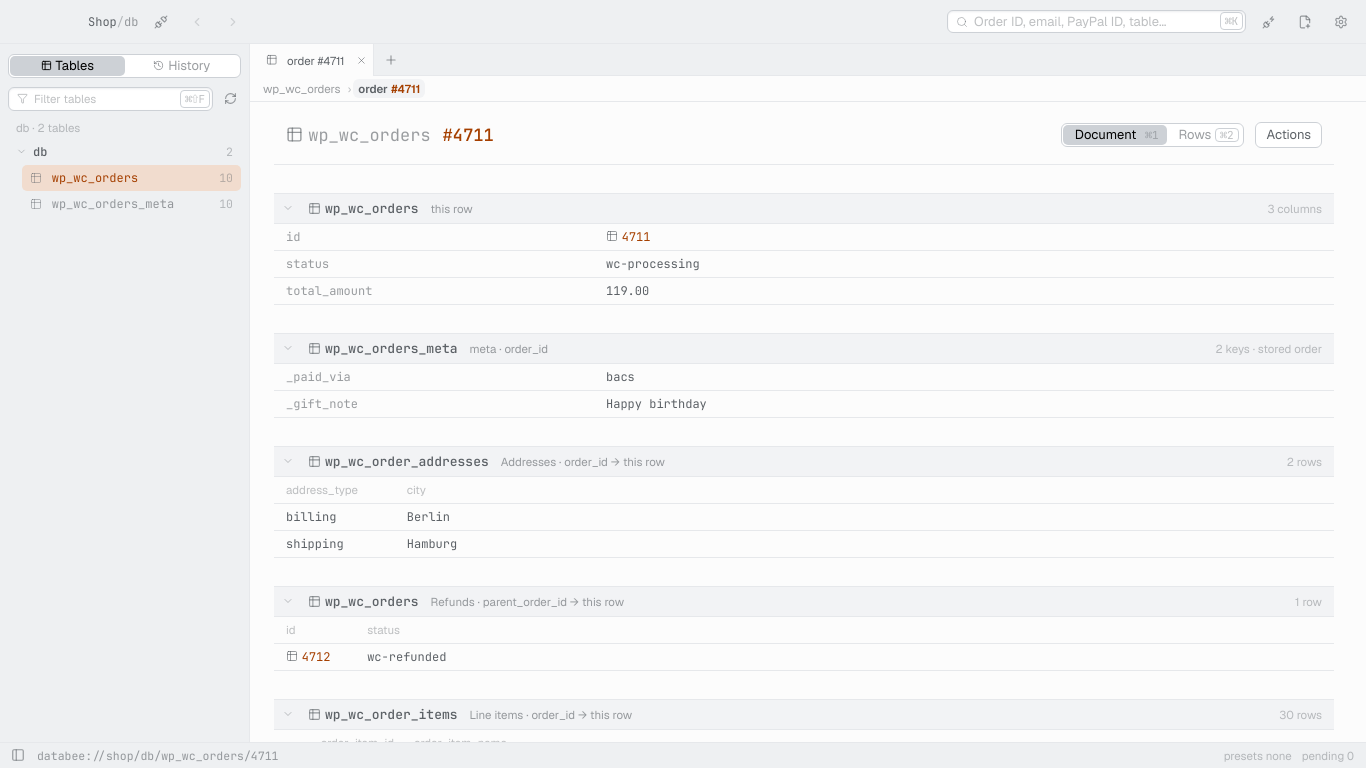
Test: live mode and change marks › w › stops live mode when the status bar chip is clicked
Expected: the element showing "db 2 wp_wc_orders 10 wp_wc_orders_meta 10" is shown, x1=16 y1=144 x2=241 y2=212
Click the text "wc-processing". click: (653, 264)
box: x1=603 y1=256 x2=703 y2=272
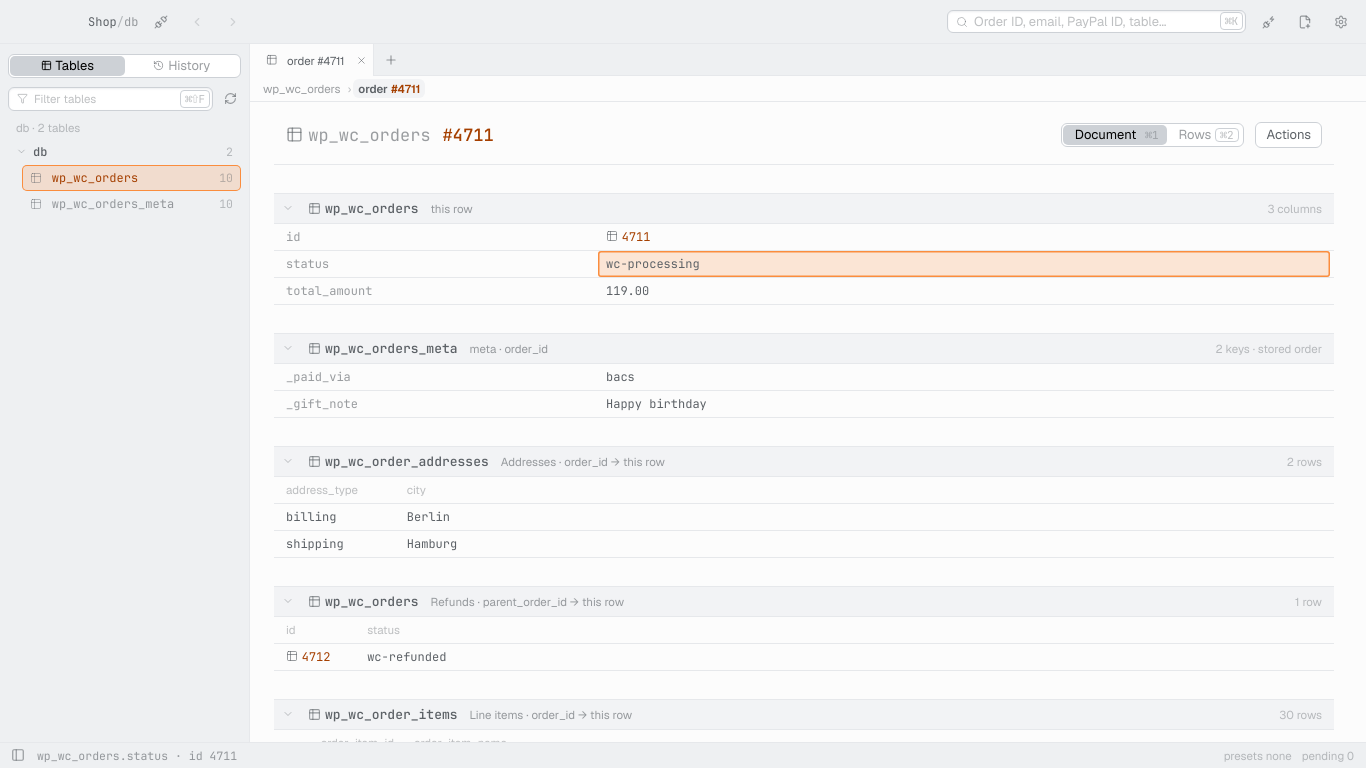
Type keys "w"
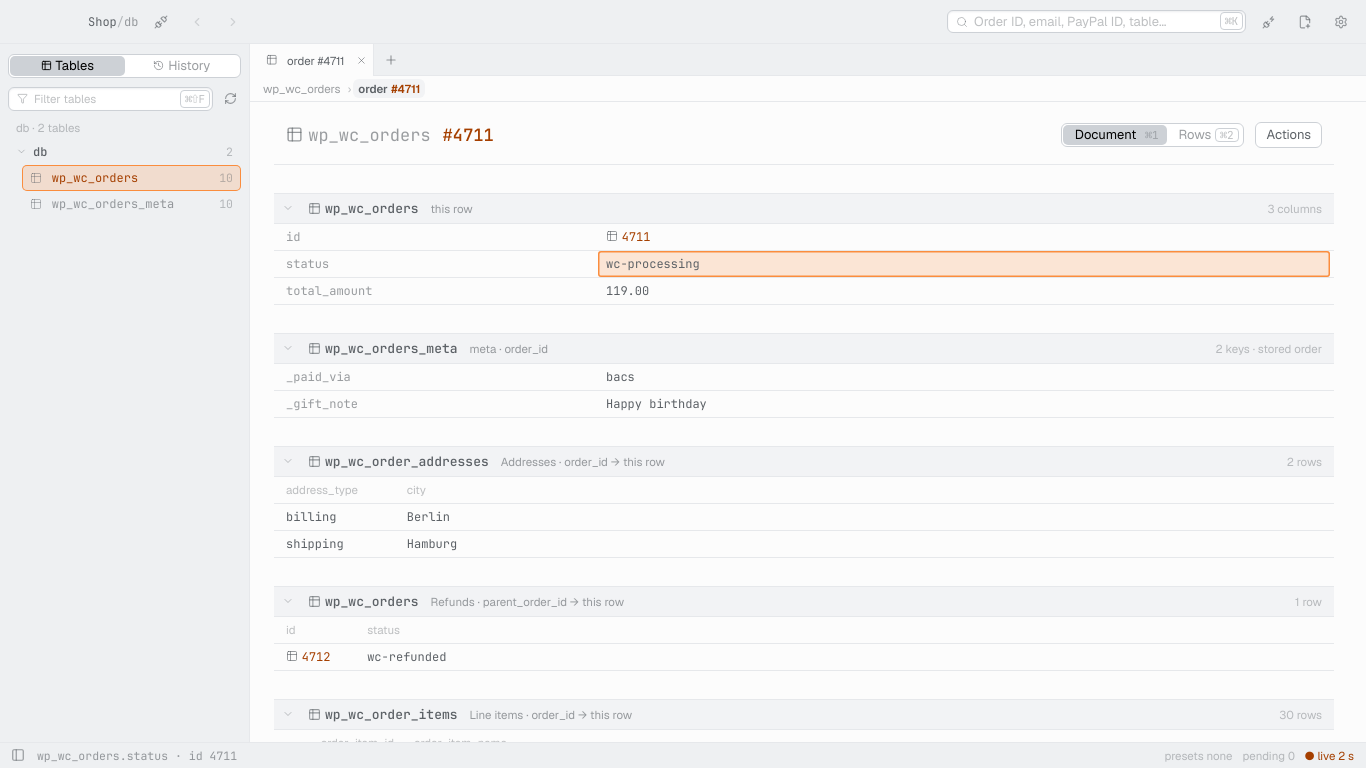
Expected: the button "● live 2 s" is shown
Click the button "● live 2 s". click: (1329, 756)
box: x1=1305 y1=748 x2=1354 y2=763
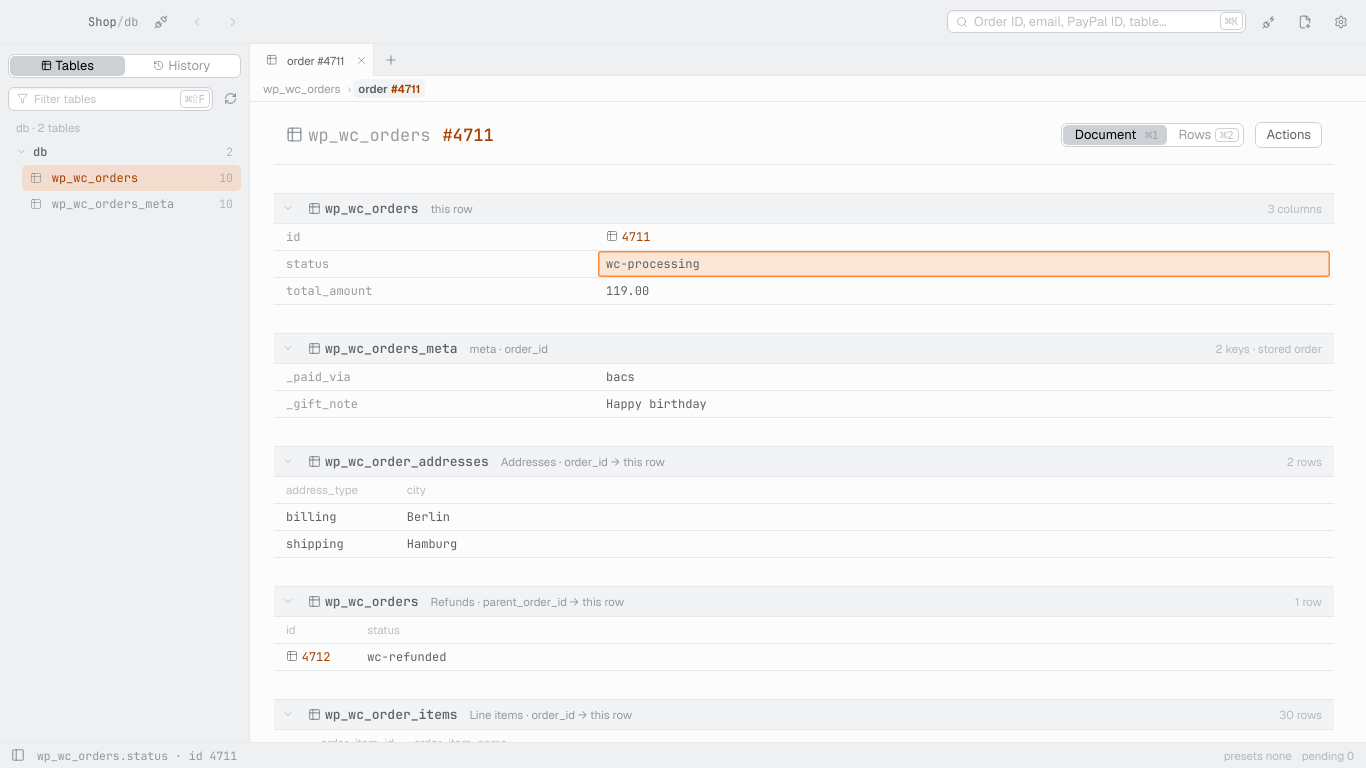
Expected: the button "● live" is gone
